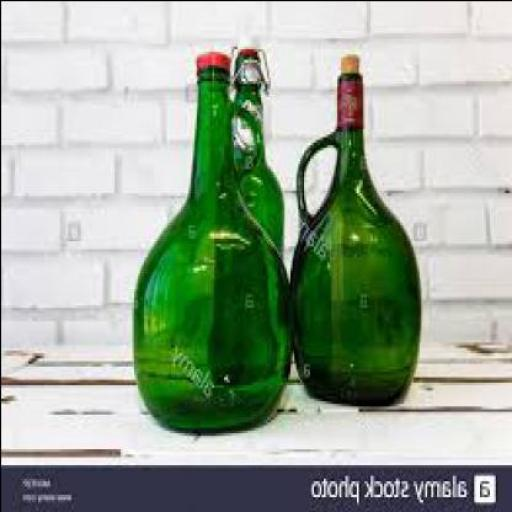glass: (132, 67, 298, 429), (289, 70, 420, 400), (211, 59, 284, 382)
metal: (200, 48, 232, 70)
plastic: (240, 43, 258, 53)
